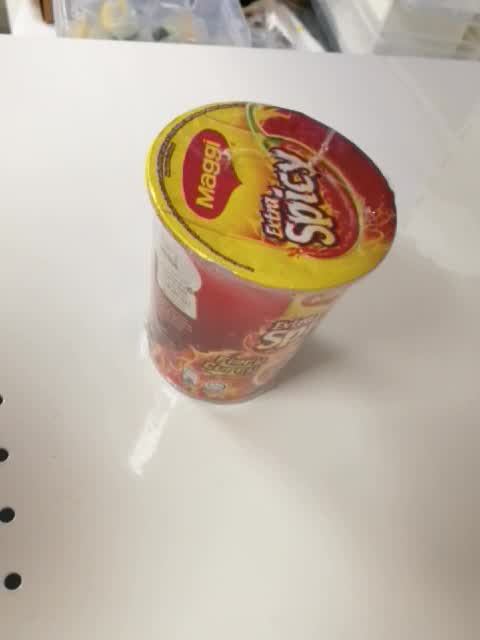maggi: (146, 100, 399, 407)
